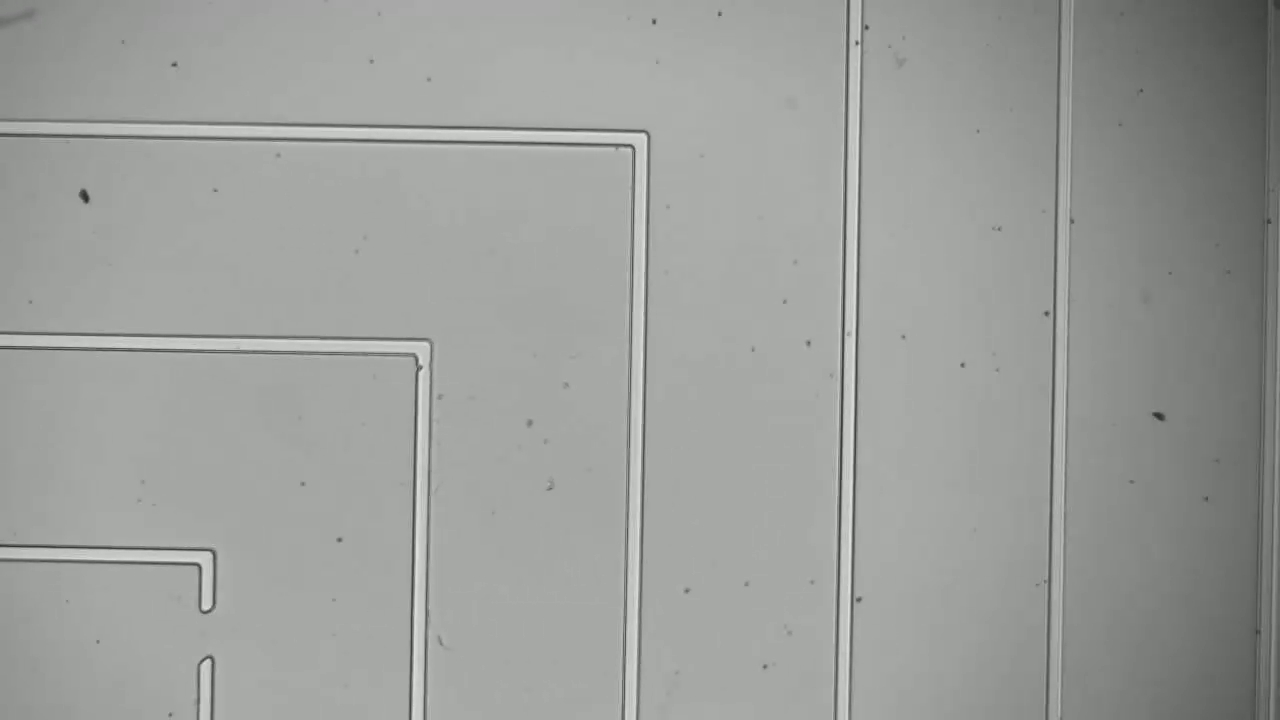open: (181, 590, 237, 684)
